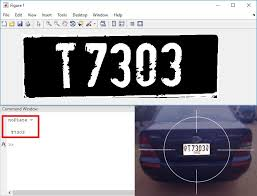number_plate: (177, 142, 217, 156)
